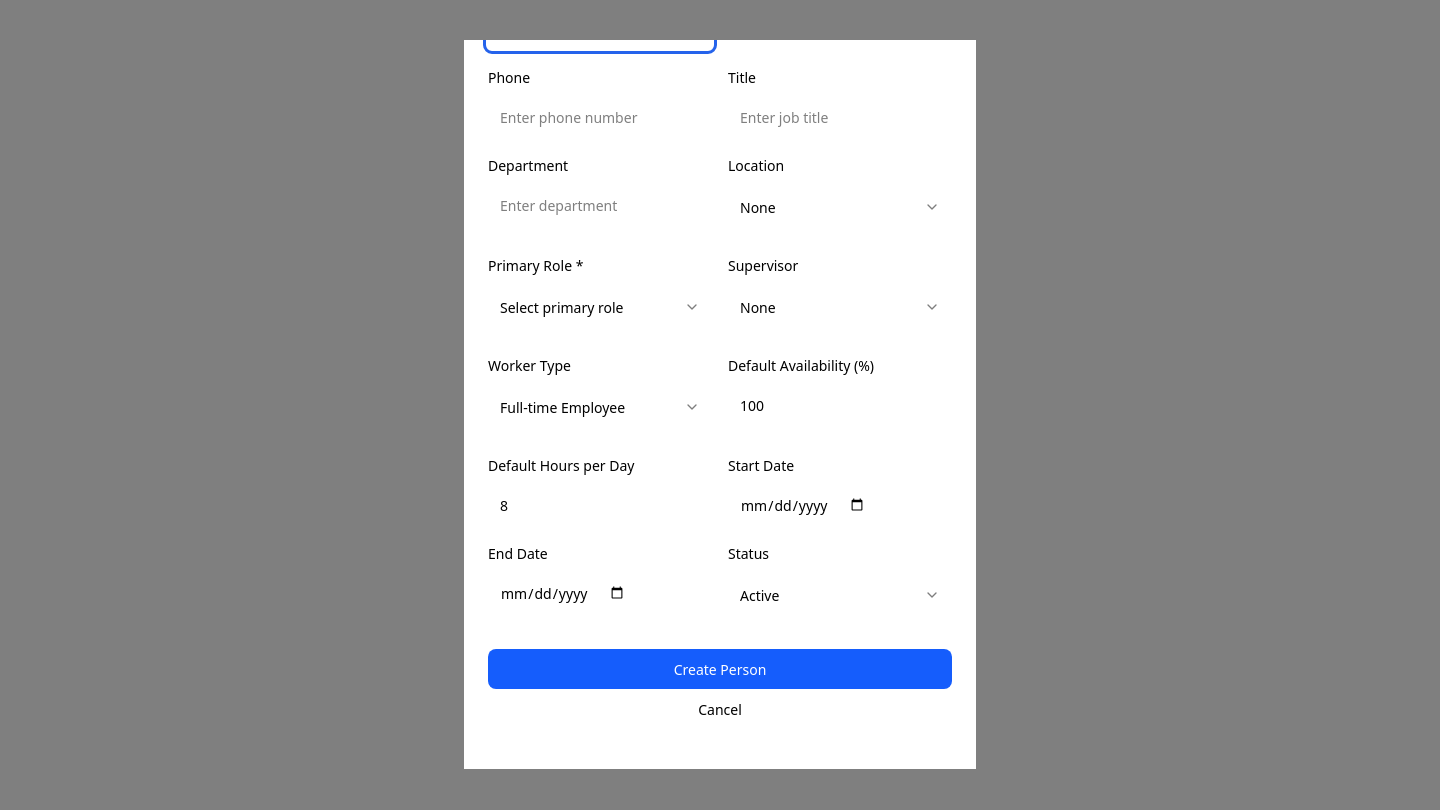
PersonModal › Form Validation › clears errors when user starts typing
The image size is (1440, 810).
(page scrolled)
Click the button "Create Person" at (720, 670), box x1=488 y1=650 x2=952 y2=690
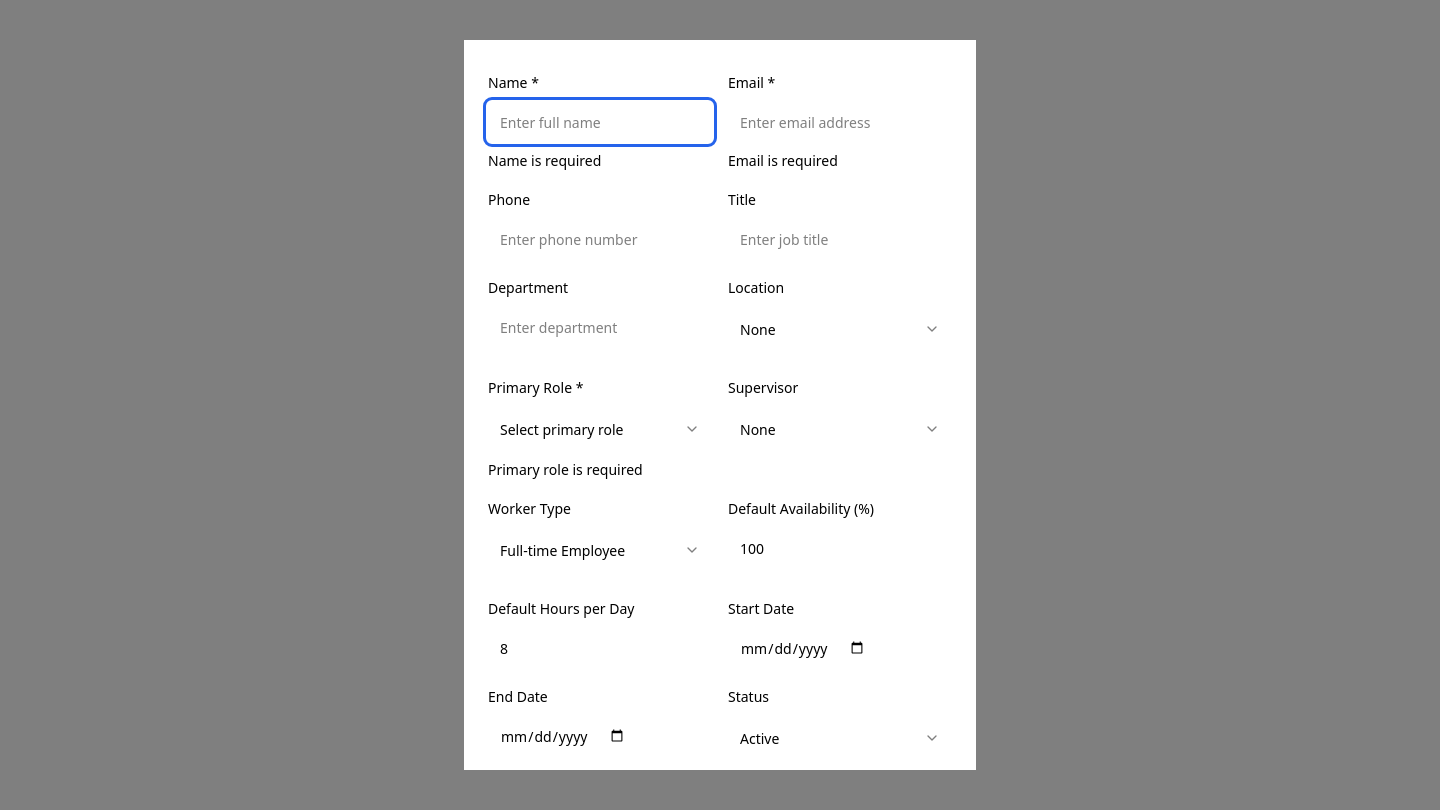
Now the text "Name is required" is shown, box x1=488 y1=152 x2=601 y2=170
Type "John" into the field labelled "Name *" at (600, 122), box x1=488 y1=102 x2=712 y2=142
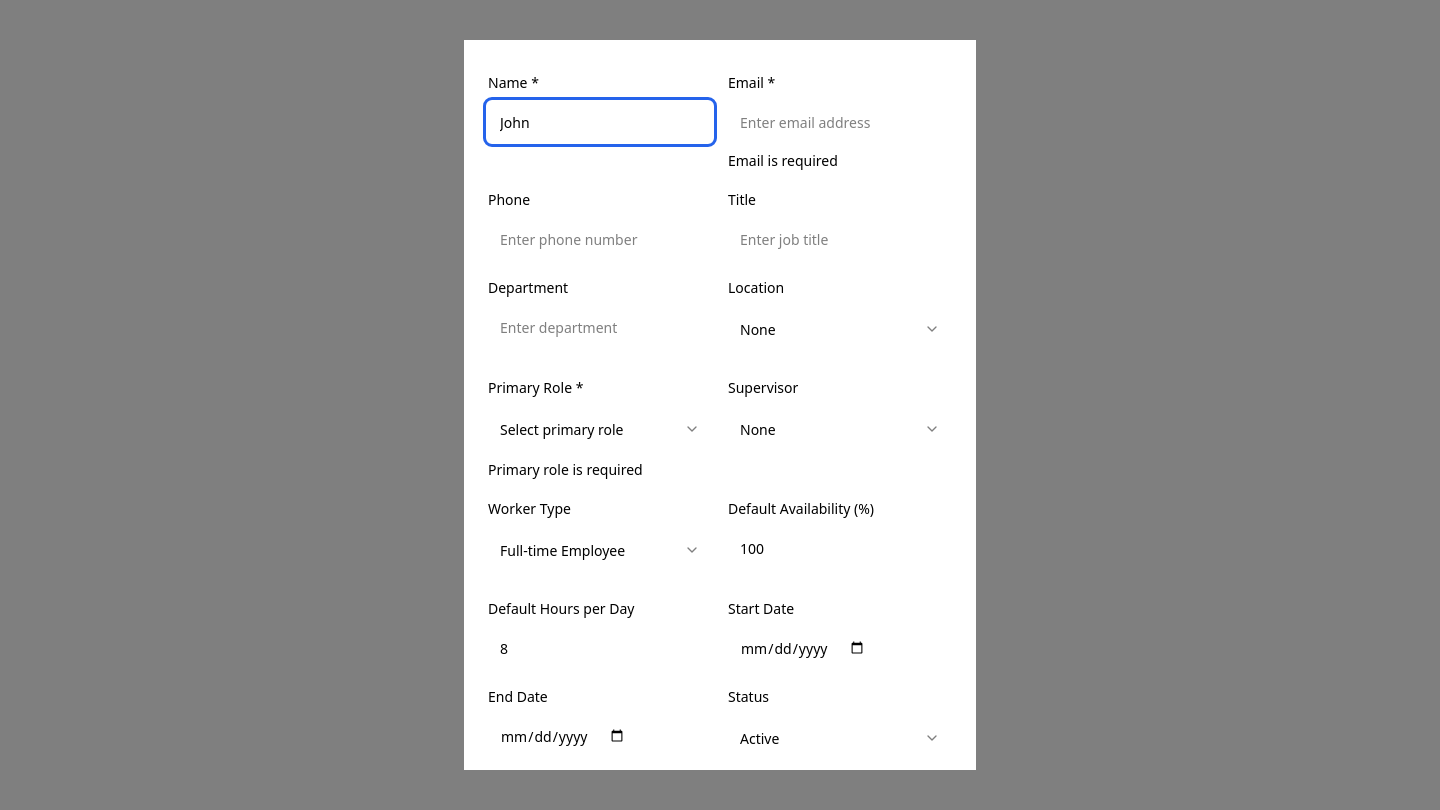
Now the text "Name is required" is gone
